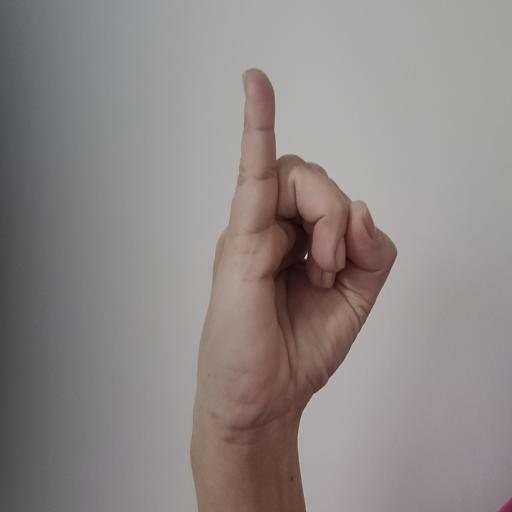I: (190, 68, 397, 512)
